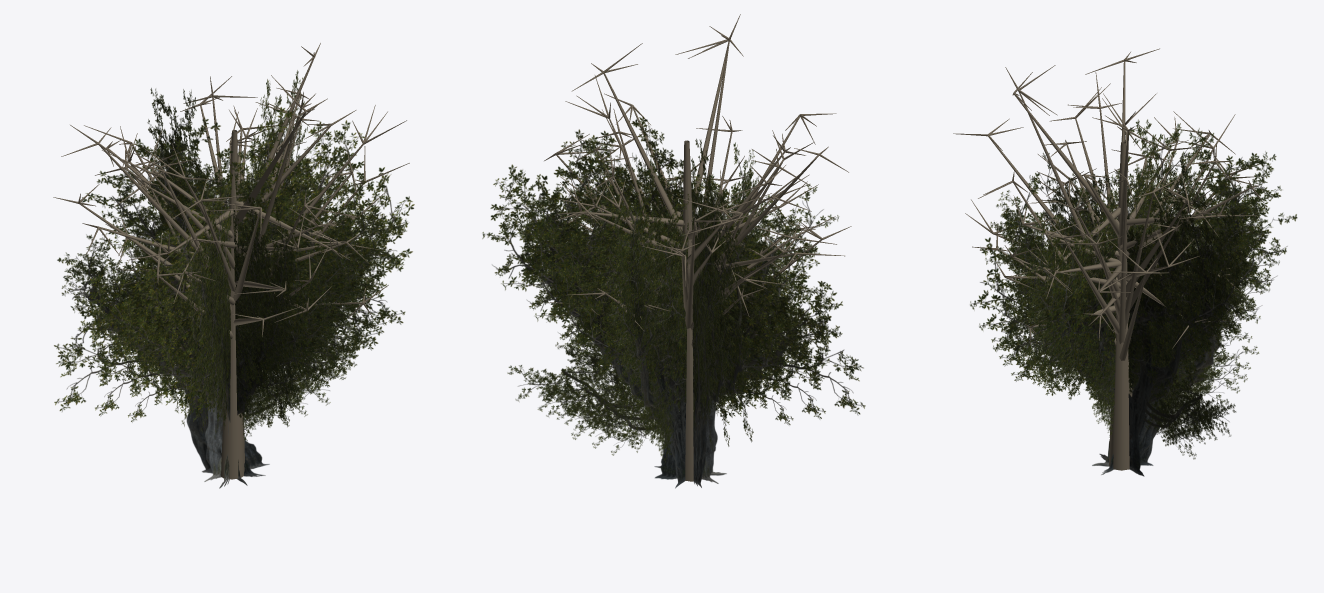
The model's file is tokyo-botanical.glb.
3 views of the same model, side by side, from view 1: azimuth 30°, elevation 25°; view 2: azimuth 150°, elevation 25°; view 3: azimuth 270°, elevation 25° (orthographic). The views are drawn at different scales.
Visible parts, largest first — view 1: Coastal broadleaf 1 / leaves, Coastal broadleaf 0 / leaves, Coastal broadleaf 2 / leaves, Coastal broadleaf 2 / branches, Coastal broadleaf 1 / branches, Coastal broadleaf 0 / branches; view 2: Coastal broadleaf 1 / leaves, Coastal broadleaf 0 / leaves, Coastal broadleaf 2 / leaves, Coastal broadleaf 2 / branches, Coastal broadleaf 1 / branches, Coastal broadleaf 0 / branches; view 3: Coastal broadleaf 1 / leaves, Coastal broadleaf 0 / leaves, Coastal broadleaf 2 / branches, Coastal broadleaf 2 / leaves, Coastal broadleaf 1 / branches, Coastal broadleaf 0 / branches.
Boxes of the visible parts, x1,y1,x2,y2 form: Coastal broadleaf 1 / leaves: (54, 70, 414, 488); Coastal broadleaf 0 / leaves: (85, 125, 375, 486); Coastal broadleaf 2 / leaves: (112, 188, 347, 484); Coastal broadleaf 2 / branches: (82, 43, 406, 479); Coastal broadleaf 1 / branches: (61, 76, 385, 314); Coastal broadleaf 0 / branches: (53, 122, 409, 339); Coastal broadleaf 1 / leaves: (482, 116, 865, 488); Coastal broadleaf 0 / leaves: (519, 166, 825, 487); Coastal broadleaf 2 / leaves: (551, 215, 793, 483); Coastal broadleaf 2 / branches: (555, 14, 844, 481); Coastal broadleaf 1 / branches: (544, 93, 848, 340); Coastal broadleaf 0 / branches: (548, 109, 851, 347); Coastal broadleaf 1 / leaves: (970, 119, 1297, 476); Coastal broadleaf 0 / leaves: (979, 167, 1286, 473); Coastal broadleaf 2 / branches: (965, 65, 1263, 470); Coastal broadleaf 2 / leaves: (993, 215, 1270, 470); Coastal broadleaf 1 / branches: (953, 48, 1259, 343); Coastal broadleaf 0 / branches: (972, 93, 1240, 360).
Size of the model in its own units: 11.4 by 11.52 by 9.36.
Materials: 5 (4 with a texture image).
